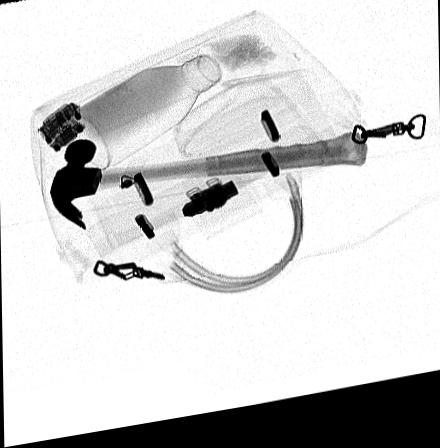Hammer: (49, 140, 369, 234)
